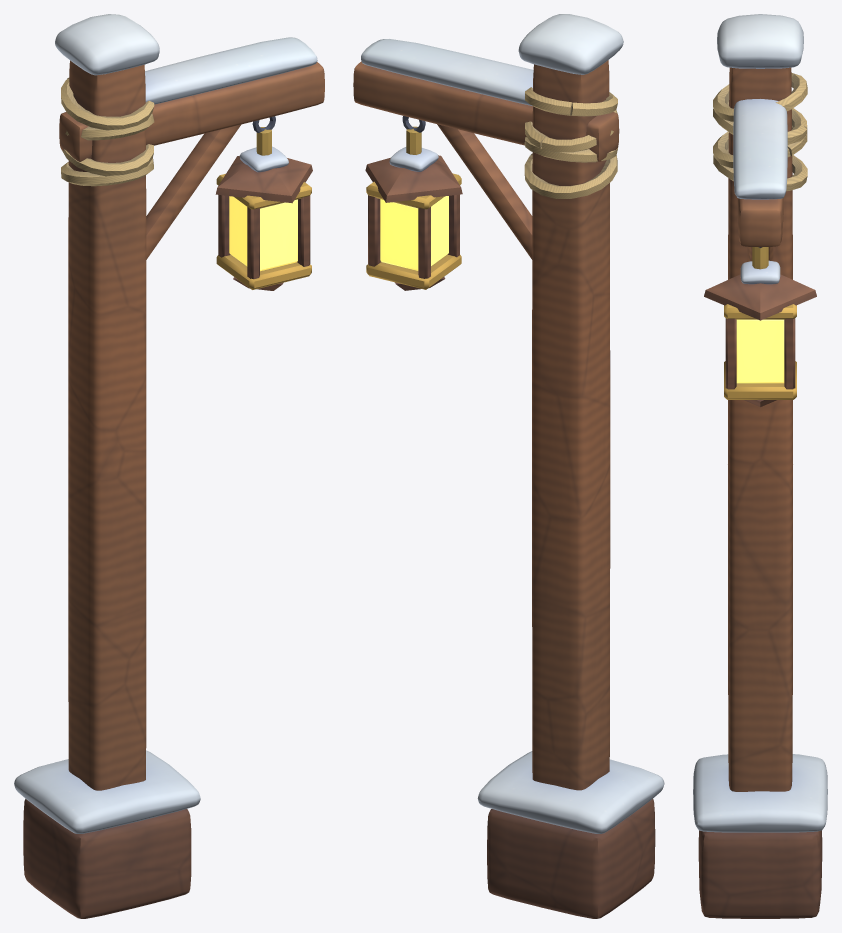
Rendered from FP_P06_LanternPost.fbx.
3 renders of one model, left to right at view 1: azimuth 30°, elevation 25°; view 2: azimuth 150°, elevation 25°; view 3: azimuth 270°, elevation 25°, orthographic.
Visible parts, largest first — view 1: Post, Arm, Lantern; view 2: Post, Arm, Lantern; view 3: Post, Arm, Lantern.
Boxes of the visible parts, x1=… form: Post: x1=14, y1=14, x2=200, y2=918; Arm: x1=59, y1=37, x2=324, y2=259; Lantern: x1=215, y1=116, x2=312, y2=290; Post: x1=477, y1=14, x2=664, y2=918; Arm: x1=353, y1=39, x2=619, y2=259; Lantern: x1=365, y1=116, x2=462, y2=290; Post: x1=693, y1=14, x2=827, y2=918; Arm: x1=713, y1=73, x2=807, y2=261; Lantern: x1=704, y1=247, x2=816, y2=406.
Bounding box in the file's own units: 0.8786 × 2.64 × 0.3684.
